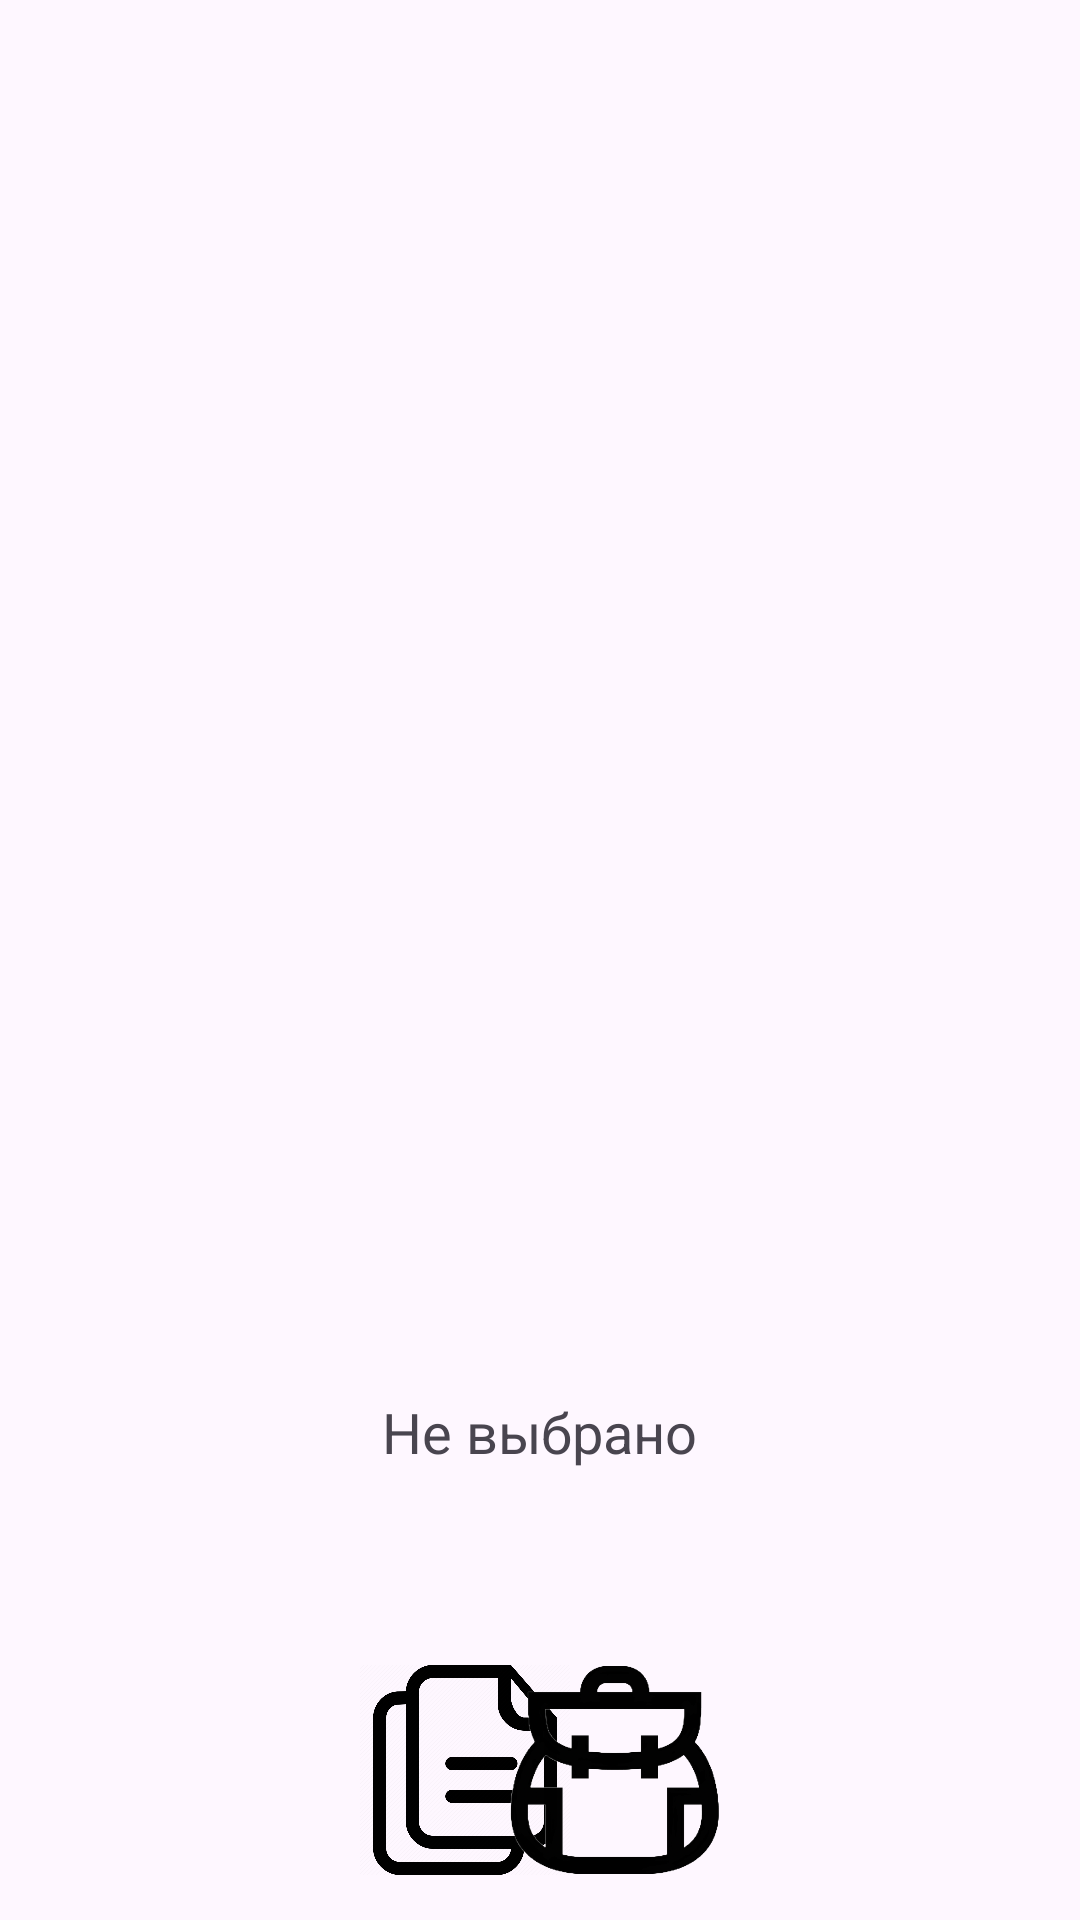

Icon click points for this 1080 x 1920 phone screenshot, format [x,y]:
инвентарь: [614,1769]
копировать: [471,1770]
